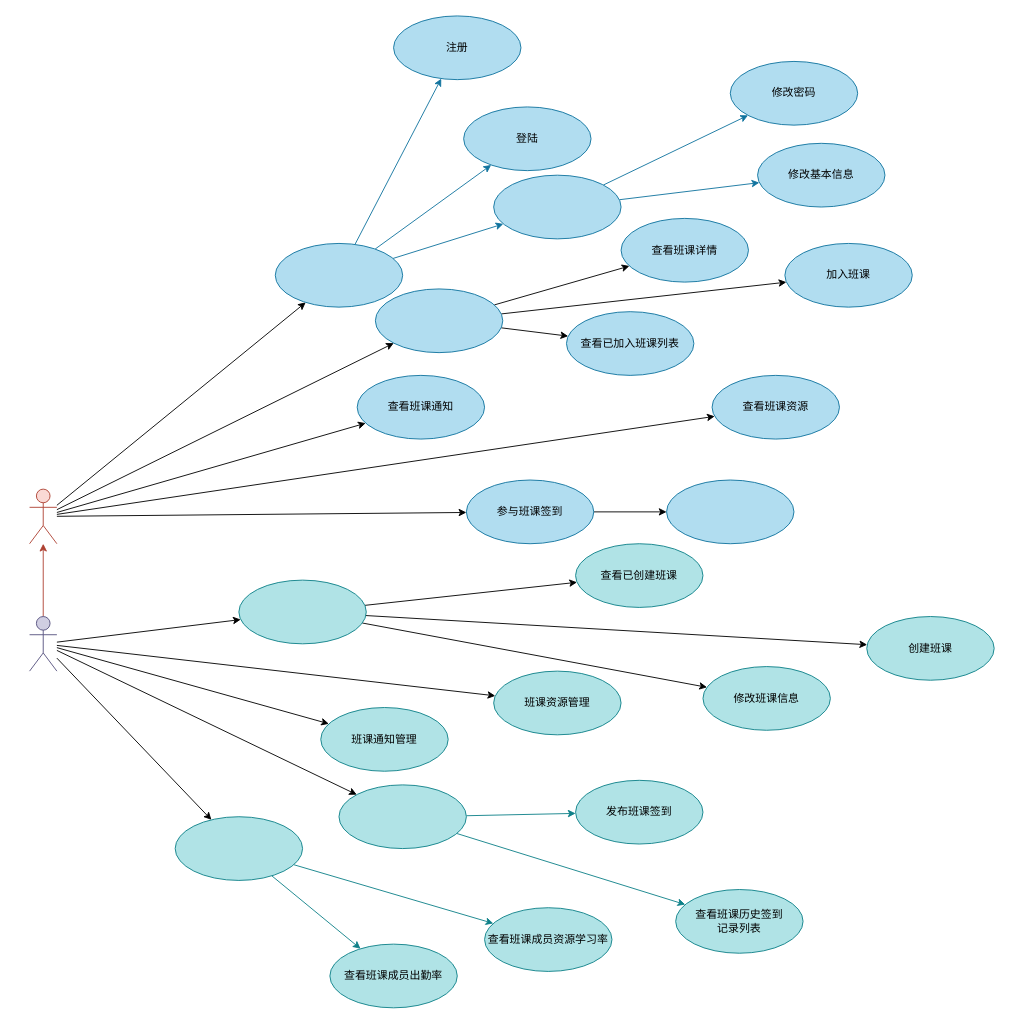
The diagram is 1010 pixels wide and 1024 high, and some of its shapes have lost their labels. The centre of each missing label's shape, as x and y in pixels:
"个人信息管理" belongs at (x=338, y=275).
"个人班课管理" belongs at (x=438, y=320).
"修改个人信息" belongs at (x=557, y=206).
"查看个人历史签到记录" belongs at (x=730, y=511).
"查看班课成员列表" belongs at (x=238, y=848).
"班课创建者" belongs at (x=43, y=643).
"班课成员" belongs at (x=43, y=516).
"班课签到管理" belongs at (x=402, y=816).
"班课管理" belongs at (x=302, y=611).
